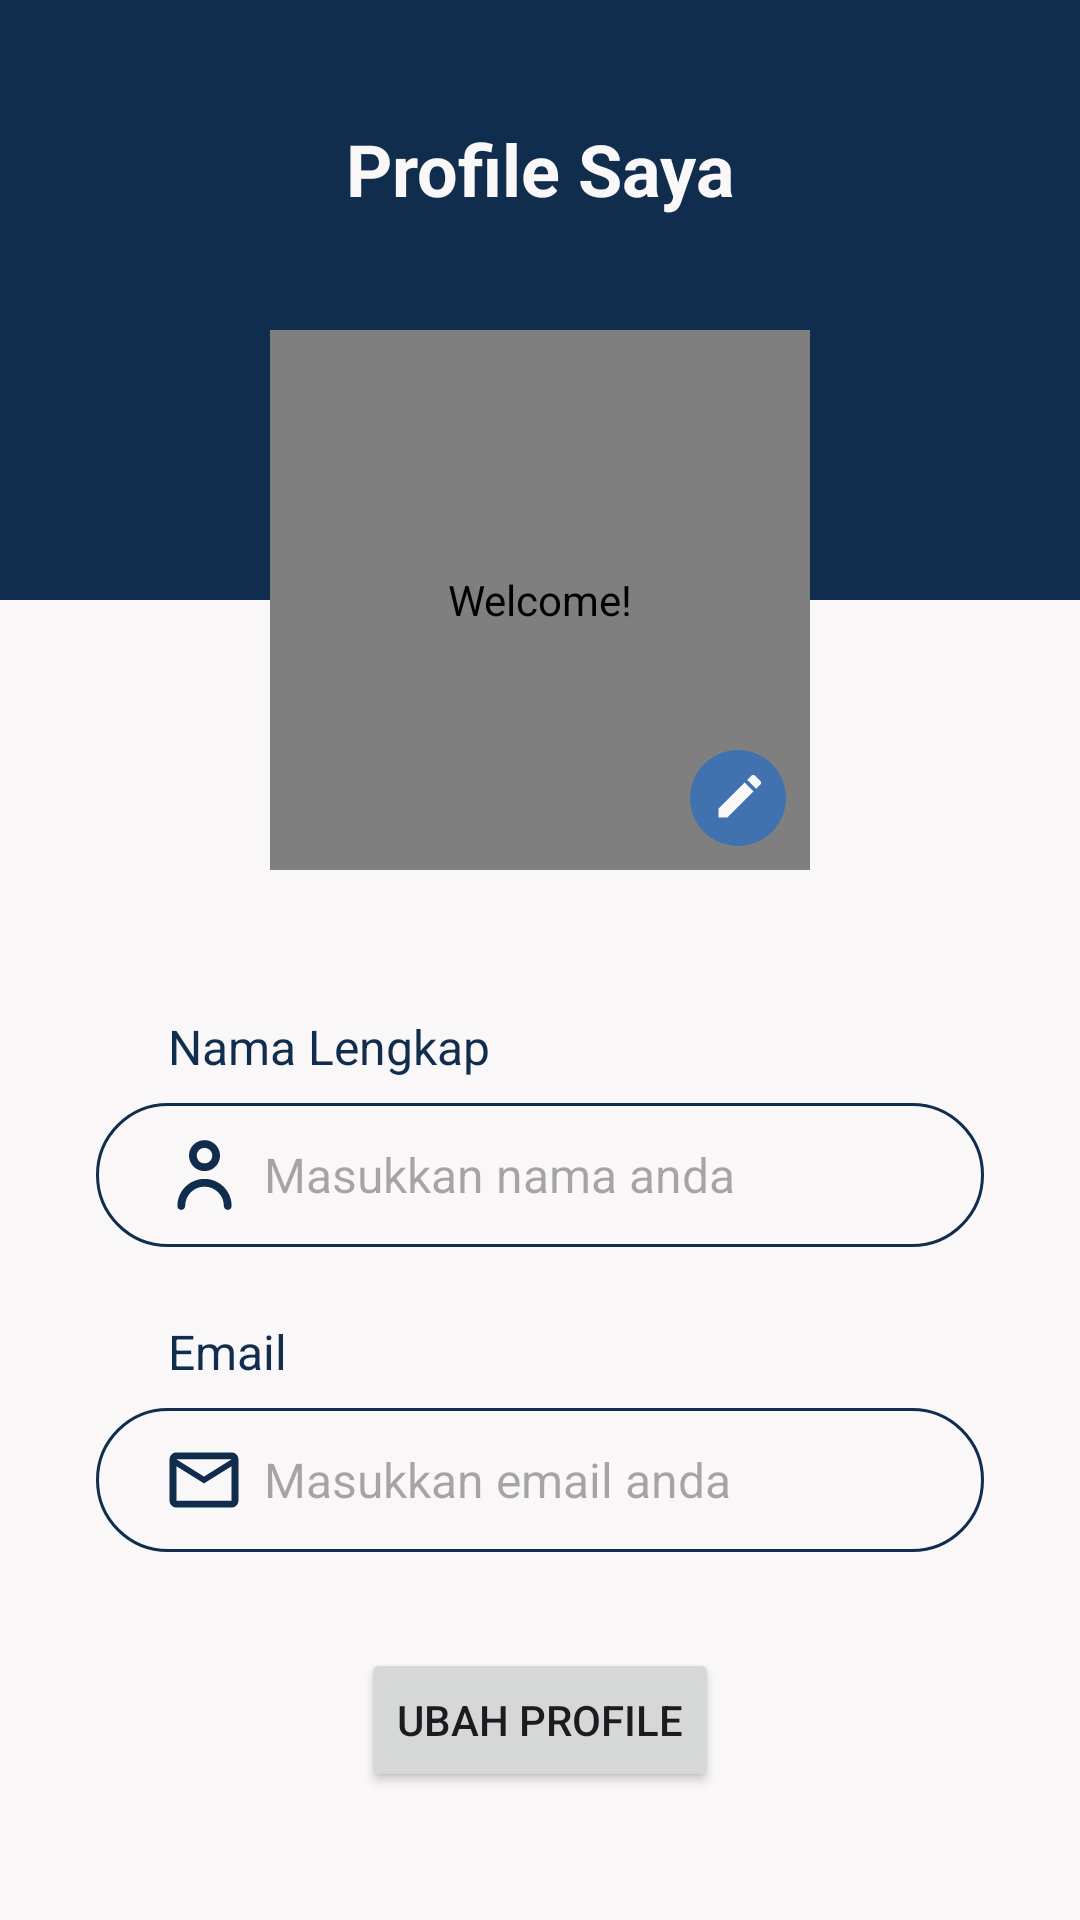

Icon bounding boxes for this 1080×1920 phone screenshot, format box(x1, y1, x2, y2):
edit foto profile: box(690, 750, 786, 846)
user: box(177, 1140, 232, 1210)
